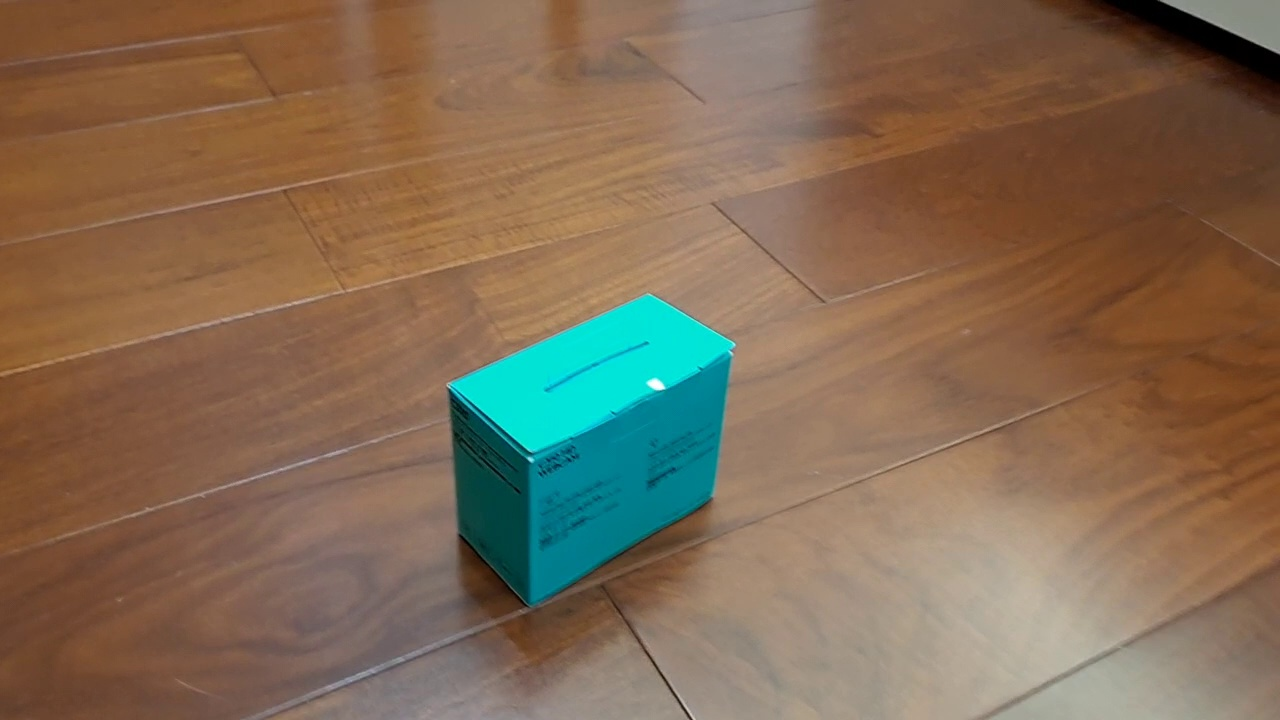webcam: (444, 291, 738, 610)
